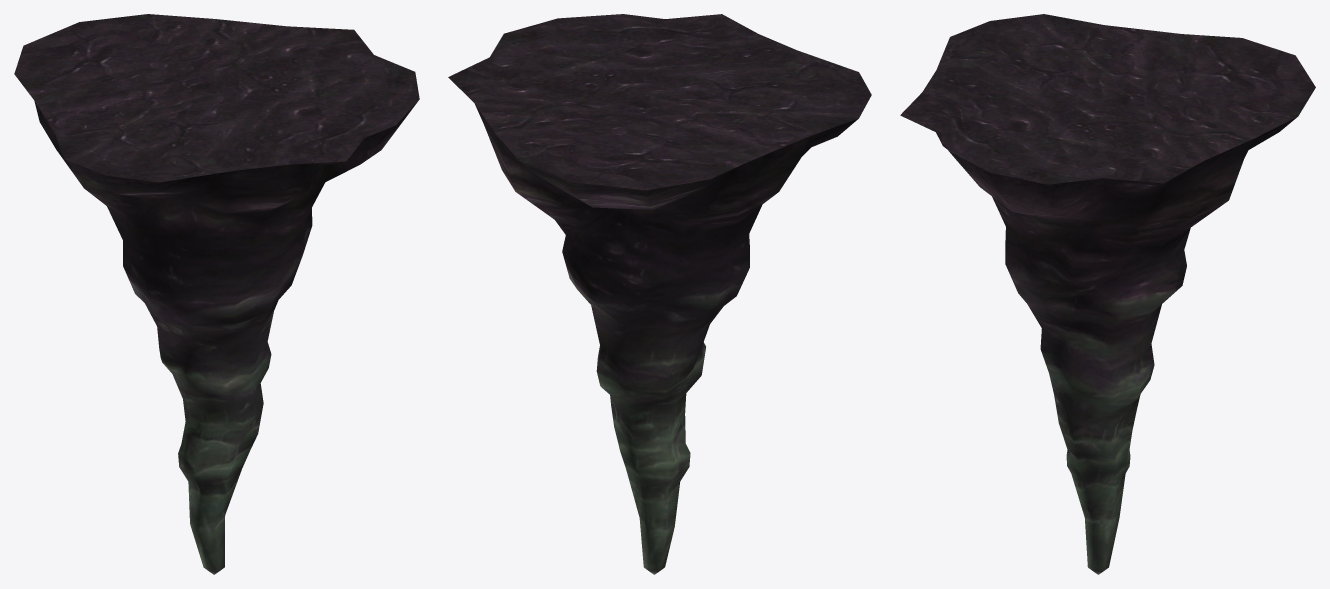
File: cave_stalactite_02.fbx
3 views of the same model, side by side, from view 1: azimuth 30°, elevation 25°; view 2: azimuth 150°, elevation 25°; view 3: azimuth 270°, elevation 25° (orthographic).
Parts seen in each view (by area): view 1: cave_stalactite_02-0; view 2: cave_stalactite_02-0; view 3: cave_stalactite_02-0.
Part boxes in pixels (x1,y1,x2,y2): cave_stalactite_02-0: (14,14,419,574); cave_stalactite_02-0: (448,14,871,574); cave_stalactite_02-0: (900,14,1315,574).
Bounding box in the file's own units: 5.28 × 6.86 × 5.44.
